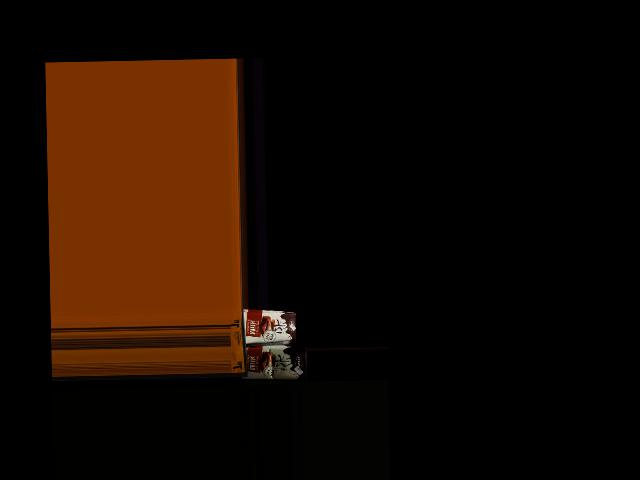chocolate: (236, 305, 298, 343)
